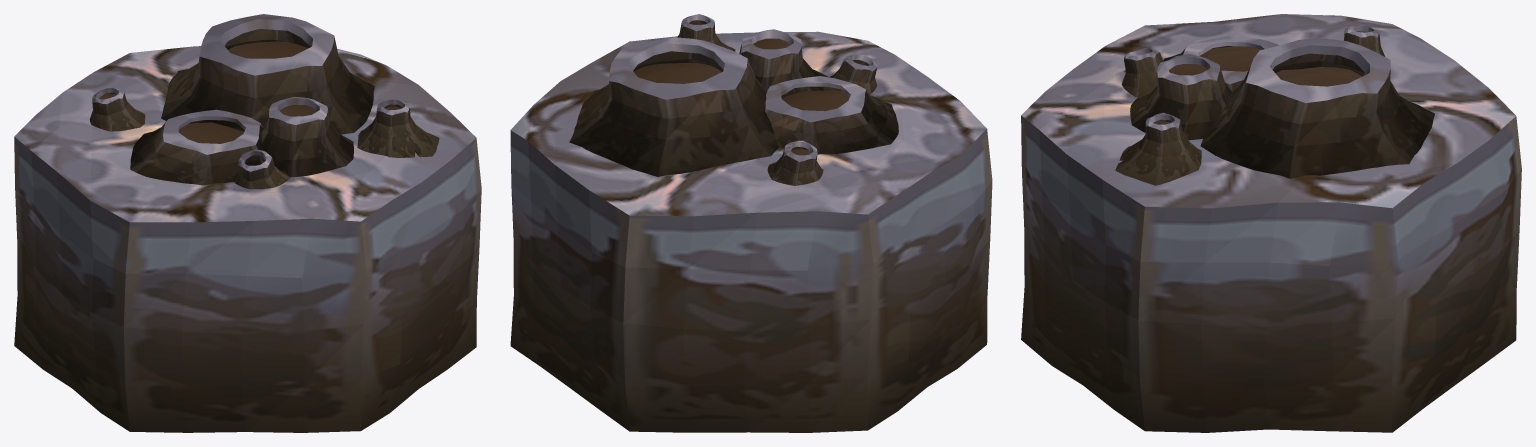
Rendered from tile_craters.fbx.
The picture shows the model from 3 angles, left to right: view 1: azimuth 30°, elevation 25°; view 2: azimuth 150°, elevation 25°; view 3: azimuth 270°, elevation 25°; orthographic projection. The views are drawn at different scales.
Parts seen in each view (by area): view 1: Cylinder002, Cylinder006, Object002, Object001; view 2: Cylinder002, Cylinder006, Object002, Object001; view 3: Cylinder002, Cylinder006, Object002, Object001.
Part boxes in pixels (x1,y1,x2,y2): Cylinder002: [14, 46, 481, 432]; Cylinder006: [89, 14, 439, 189]; Object002: [99, 93, 401, 179]; Object001: [228, 41, 307, 58]; Cylinder002: [510, 31, 992, 432]; Cylinder006: [569, 14, 898, 185]; Object002: [691, 23, 849, 155]; Object001: [634, 63, 721, 83]; Cylinder002: [1021, 14, 1521, 432]; Cylinder006: [1115, 24, 1434, 185]; Object002: [1124, 31, 1367, 124]; Object001: [1276, 67, 1361, 86].
Bounding box in the file's own units: 4.36 × 4.72 × 3.14.
Materials: 1 (1 with a texture image).
